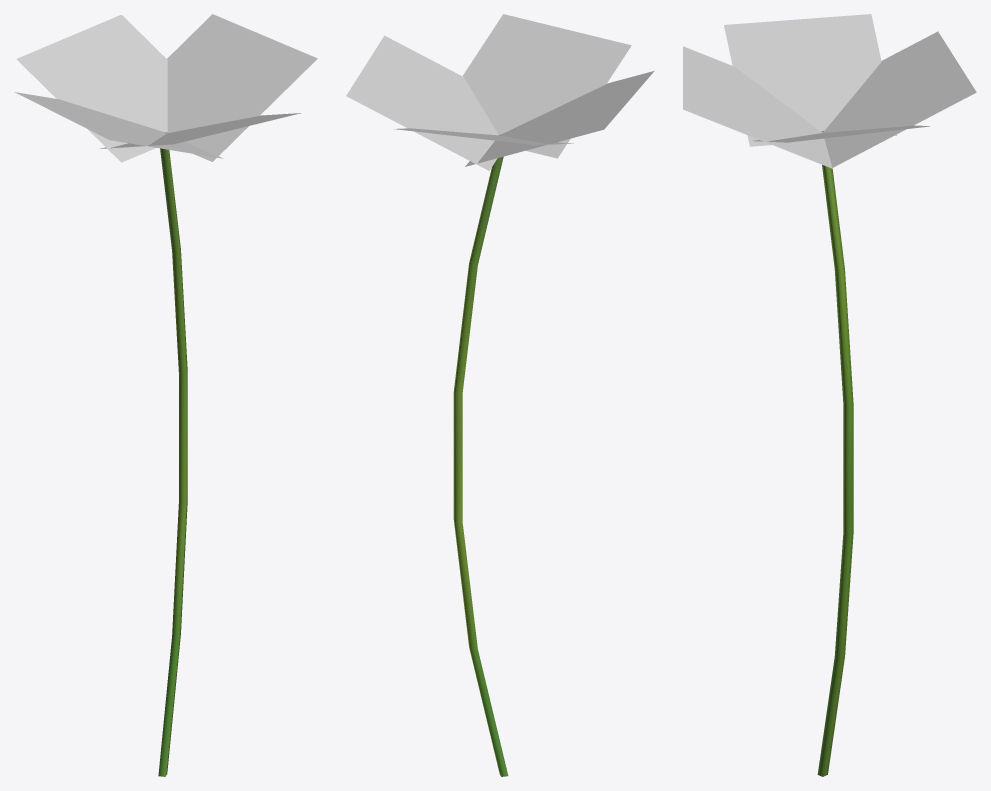
Rendered from SM_flower_04.fbx.
3 renders of one model, left to right at view 1: azimuth 30°, elevation 25°; view 2: azimuth 150°, elevation 25°; view 3: azimuth 270°, elevation 25°, orthographic.
Parts seen in each view (by area): view 1: SM_flower_04; view 2: SM_flower_04; view 3: SM_flower_04.
Part boxes in pixels (x1,y1,x2,y2): SM_flower_04: (14, 14, 317, 776); SM_flower_04: (346, 14, 654, 776); SM_flower_04: (683, 14, 976, 776).
Bounding box in the file's own units: 22.99 × 58.3 × 22.18.
